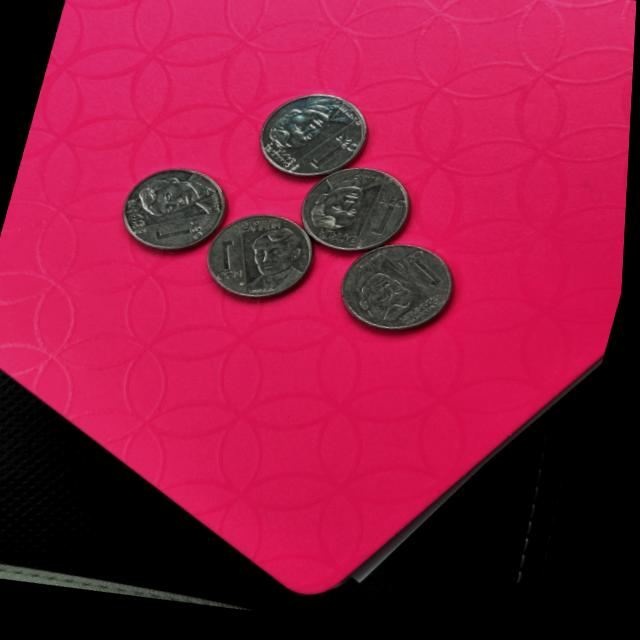1_New_Front: (357, 189, 413, 259), (303, 126, 362, 187), (147, 207, 210, 259), (399, 254, 455, 309), (206, 237, 251, 294)
